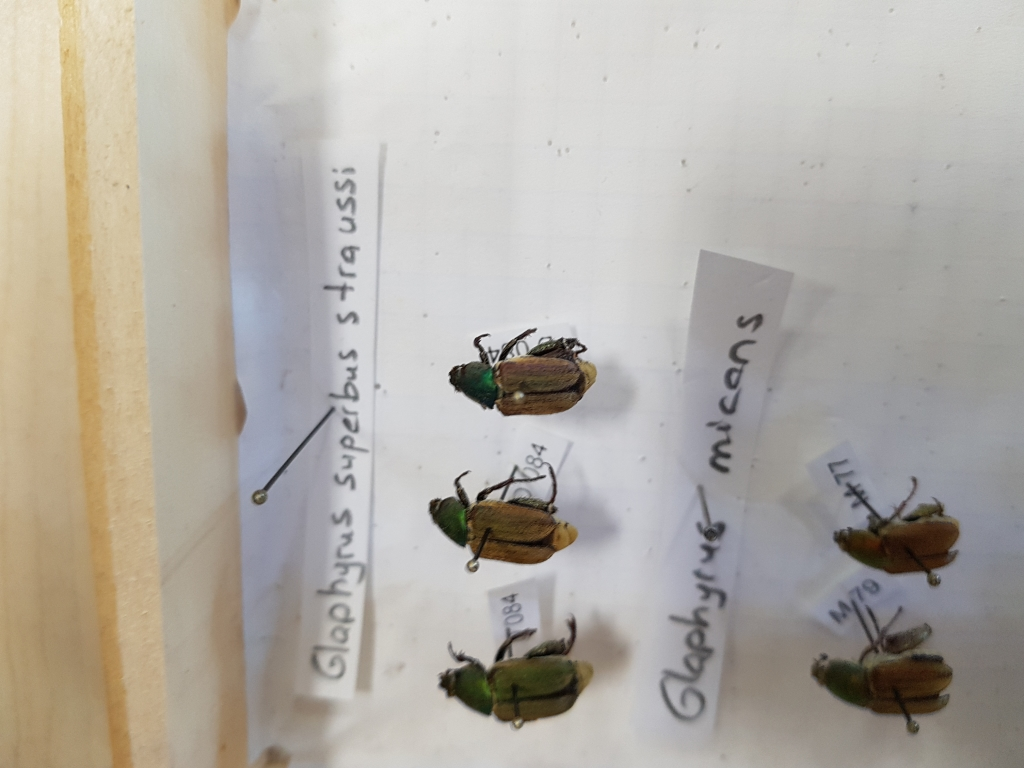Glaphyrus_superbus: (420, 457, 586, 583), (448, 315, 608, 421)
